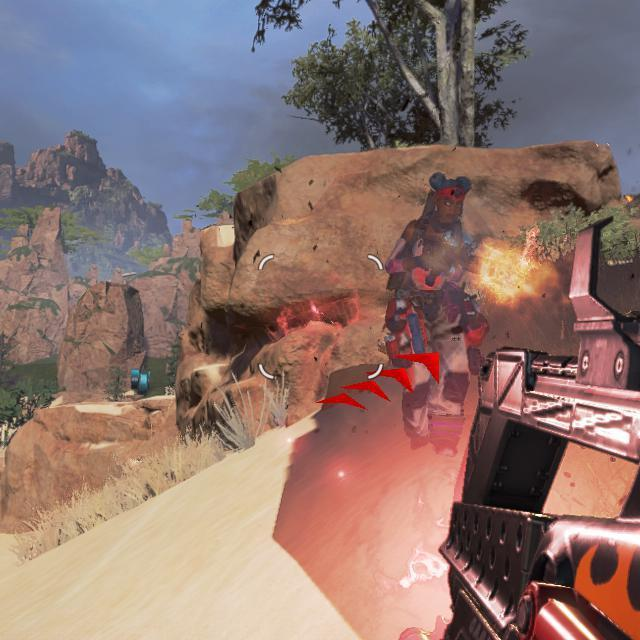avatar: (382, 172, 489, 457)
